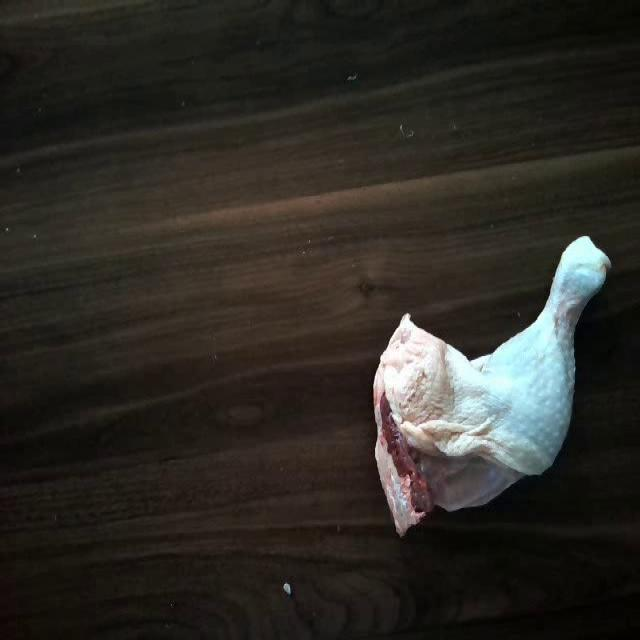quater: (372, 232, 614, 524)
